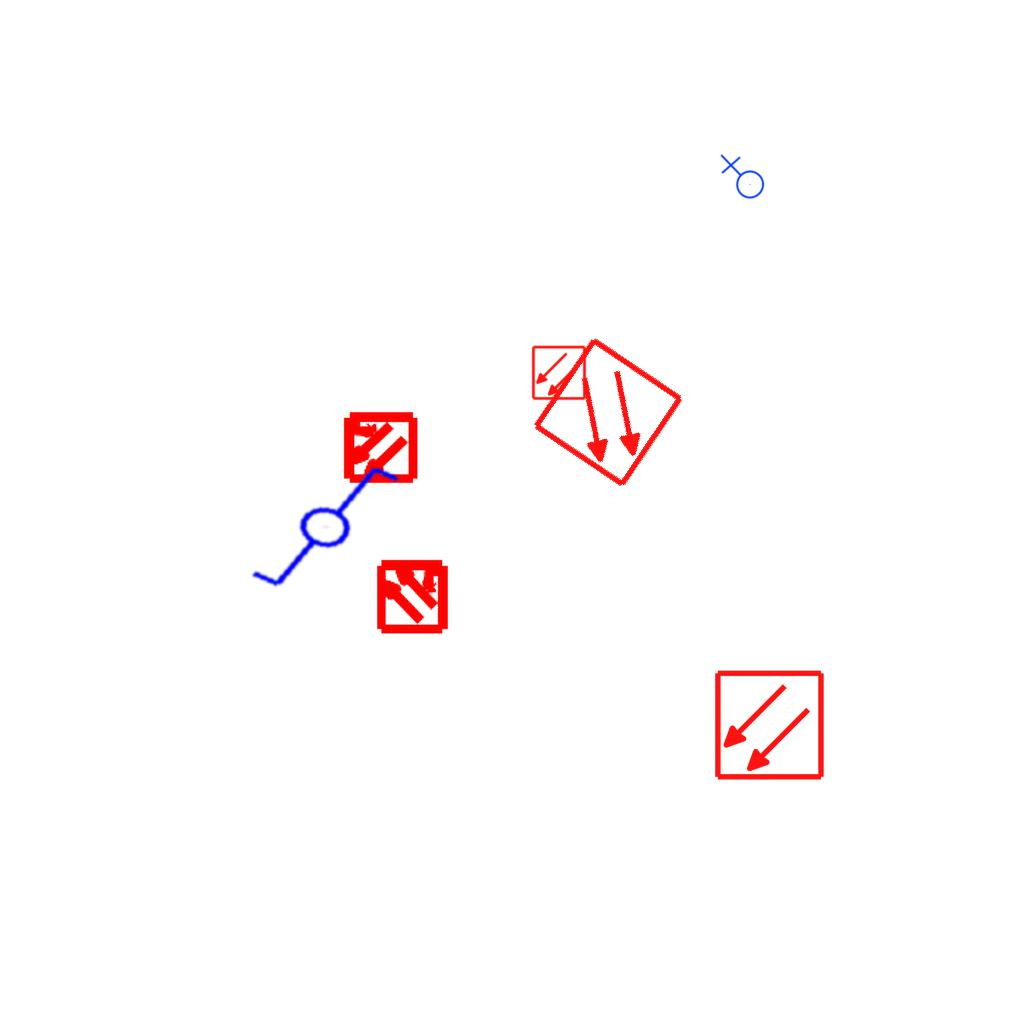Elektroanschluss_allgemein_230V_Geraeteanschlussdose_230V: (718, 154, 765, 203)
OT_Multisensormelder_(Kombination_RMO_WMD): (322, 391, 435, 504), (356, 538, 469, 651)
RMO_Rauchmelder_optischer: (530, 334, 687, 491), (713, 669, 826, 782), (531, 345, 587, 401)
Wechselschalter: (229, 441, 406, 607)
